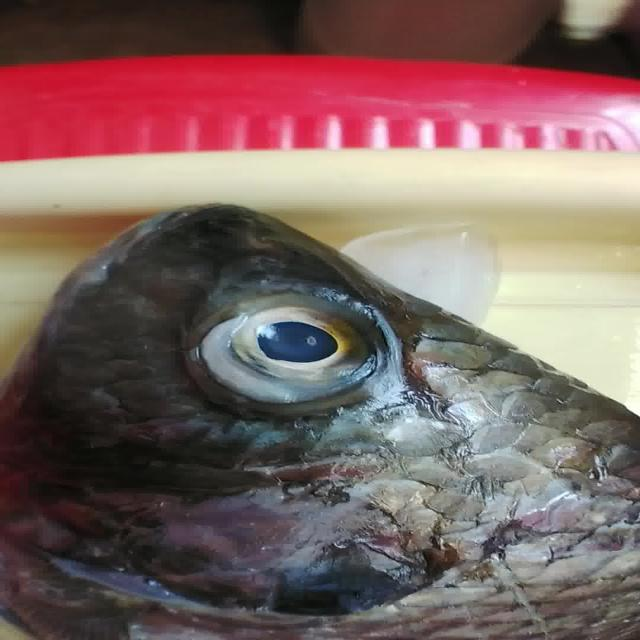Fresh: (168, 278, 462, 417)
